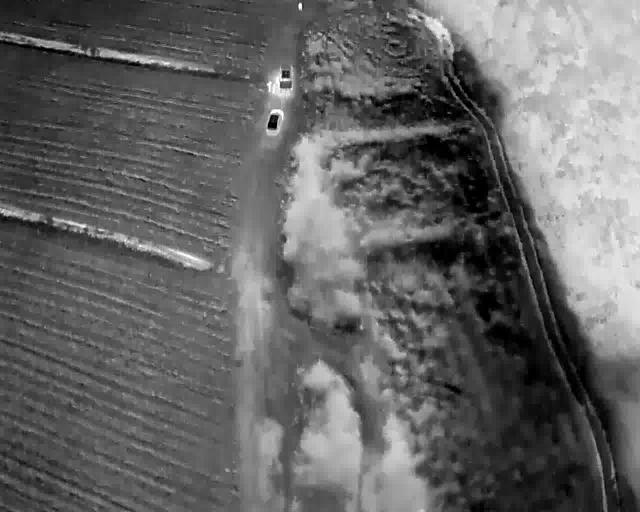car: (266, 106, 282, 136), (278, 61, 294, 91)
person: (265, 80, 272, 92), (270, 83, 277, 95), (274, 76, 281, 88), (297, 1, 303, 13)
